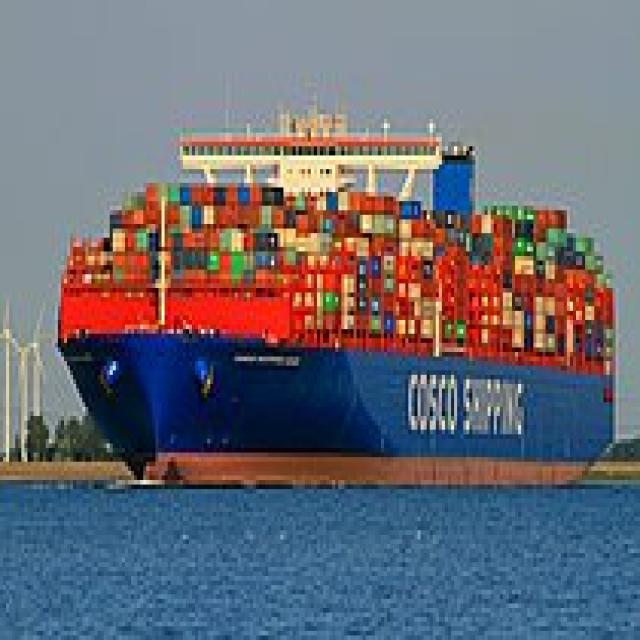Cargo: (49, 68, 616, 484)
